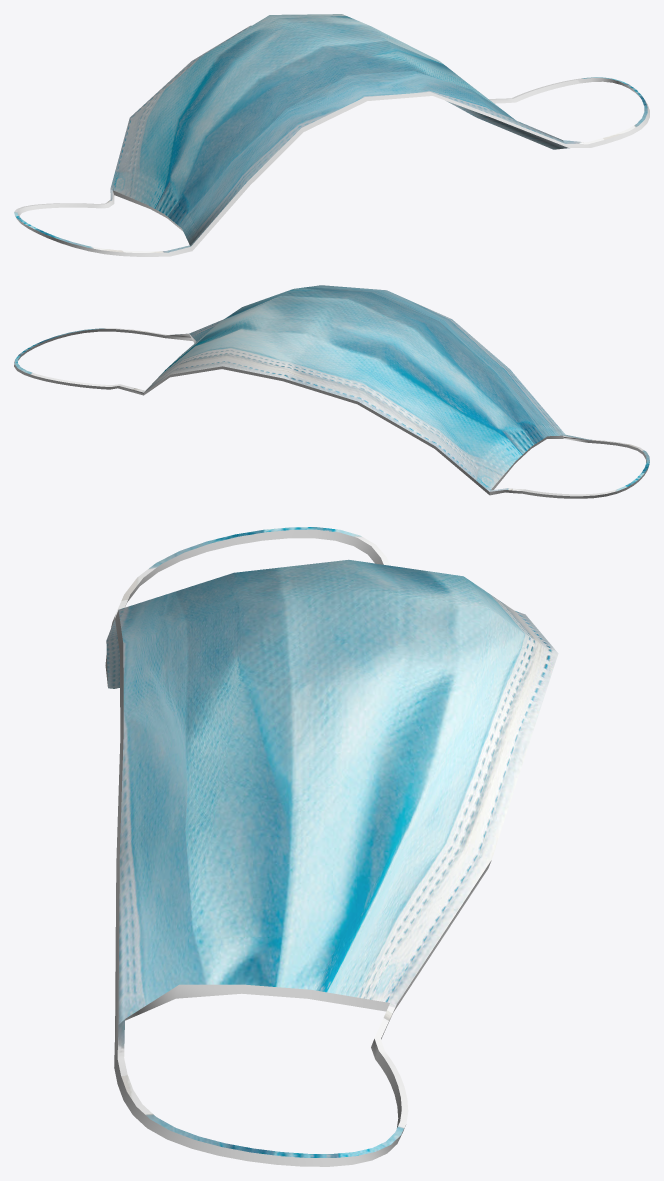
The model's file is Mask.fbx.
3 renders of one model, top to bottom at view 1: azimuth 30°, elevation 25°; view 2: azimuth 150°, elevation 25°; view 3: azimuth 270°, elevation 25°, orthographic. The views are drawn at different scales.
Parts seen in each view (by area): view 1: Mask; view 2: Mask; view 3: Mask.
Part boxes in pixels (x1=…): Mask: x1=14, y1=14, x2=649, y2=256; Mask: x1=14, y1=285, x2=649, y2=498; Mask: x1=105, y1=527, x2=558, y2=1166.
Size of the model in its own units: 21.75 by 4.58 by 6.97.
Materials: 1 (1 with a texture image).
